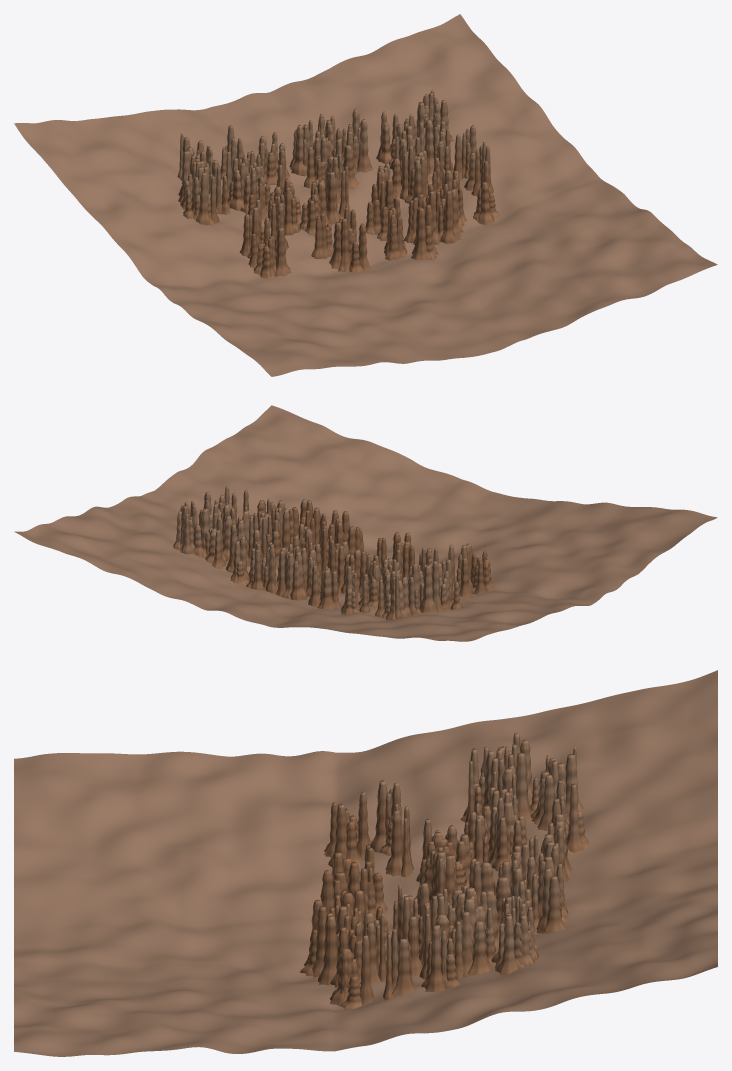
Rendered from bryce-cinema.glb.
The picture shows the model from 3 angles, top to bottom: view 1: azimuth 30°, elevation 25°; view 2: azimuth 150°, elevation 25°; view 3: azimuth 270°, elevation 25°; orthographic projection. The views are drawn at different scales.
Parts seen in each view (by area): view 1: Amphitheatre floor, Hoodoo fins and spires; view 2: Amphitheatre floor, Hoodoo fins and spires; view 3: Amphitheatre floor, Hoodoo fins and spires.
Boxes of the visible parts, bbox=[...] form: Amphitheatre floor: bbox=[14, 14, 717, 376]; Hoodoo fins and spires: bbox=[177, 89, 500, 279]; Amphitheatre floor: bbox=[14, 405, 717, 641]; Hoodoo fins and spires: bbox=[173, 486, 495, 620]; Amphitheatre floor: bbox=[14, 670, 717, 1056]; Hoodoo fins and spires: bbox=[300, 733, 589, 1010].
Bounding box in the file's own units: 70 × 14.51 × 70.
